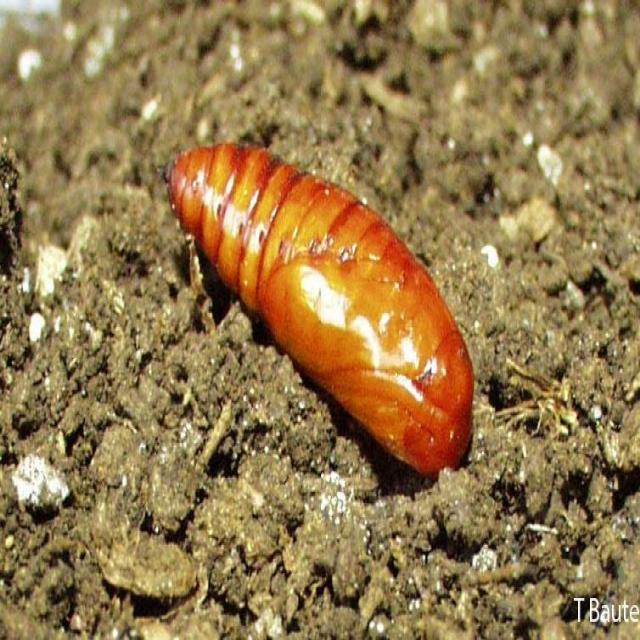black cutworm: (157, 132, 502, 504)
